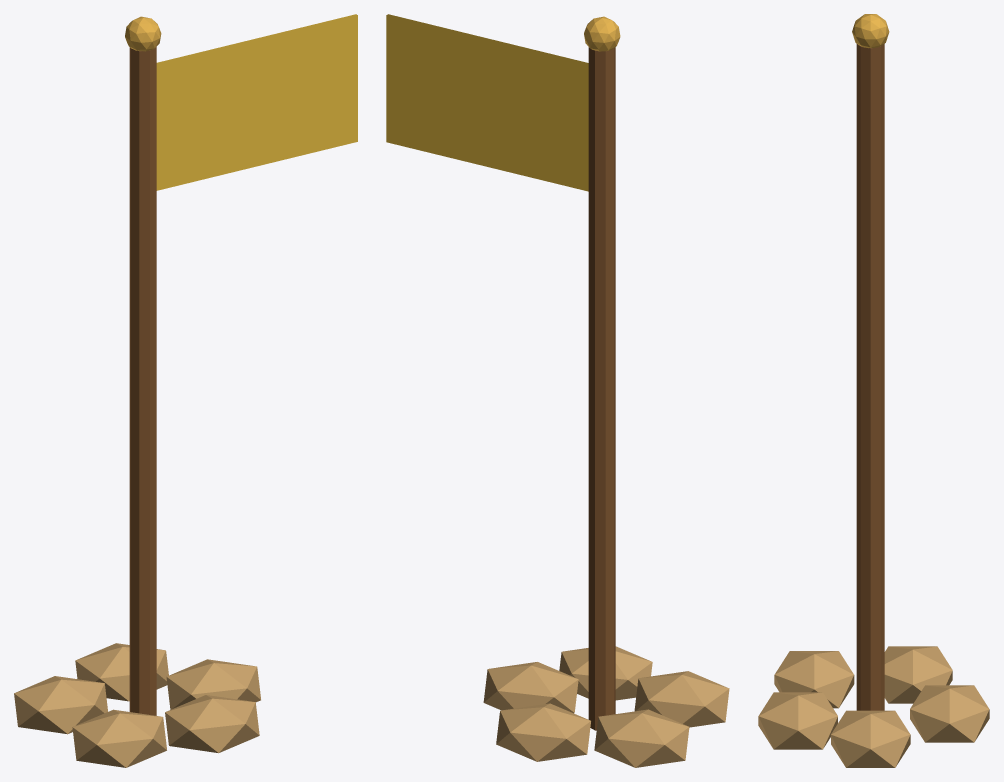
Rendered from map3_sandstorm_post_v01.glb.
The picture shows the model from 3 angles, left to right: view 1: azimuth 30°, elevation 25°; view 2: azimuth 150°, elevation 25°; view 3: azimuth 270°, elevation 25°; orthographic projection.
Visible parts, largest first — view 1: sandstorm_post, storm_flag; view 2: sandstorm_post, storm_flag; view 3: sandstorm_post.
Part boxes in pixels (x1,y1,x2,y2): sandstorm_post: (14, 16, 260, 767); storm_flag: (156, 14, 357, 190); sandstorm_post: (483, 16, 729, 767); storm_flag: (386, 14, 588, 191); sandstorm_post: (758, 14, 989, 767).
Size of the model in its own units: 1.57 by 3.37 by 0.9867.
